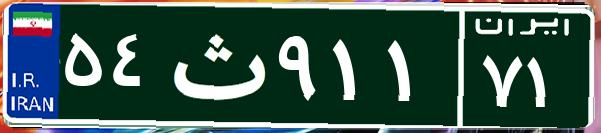1: (385, 28, 445, 110), (330, 28, 385, 110), (525, 38, 570, 115)
4: (110, 28, 158, 105)
5: (57, 26, 110, 107)
7: (475, 38, 525, 113)
9: (273, 28, 330, 110)
ث: (158, 15, 273, 115)
